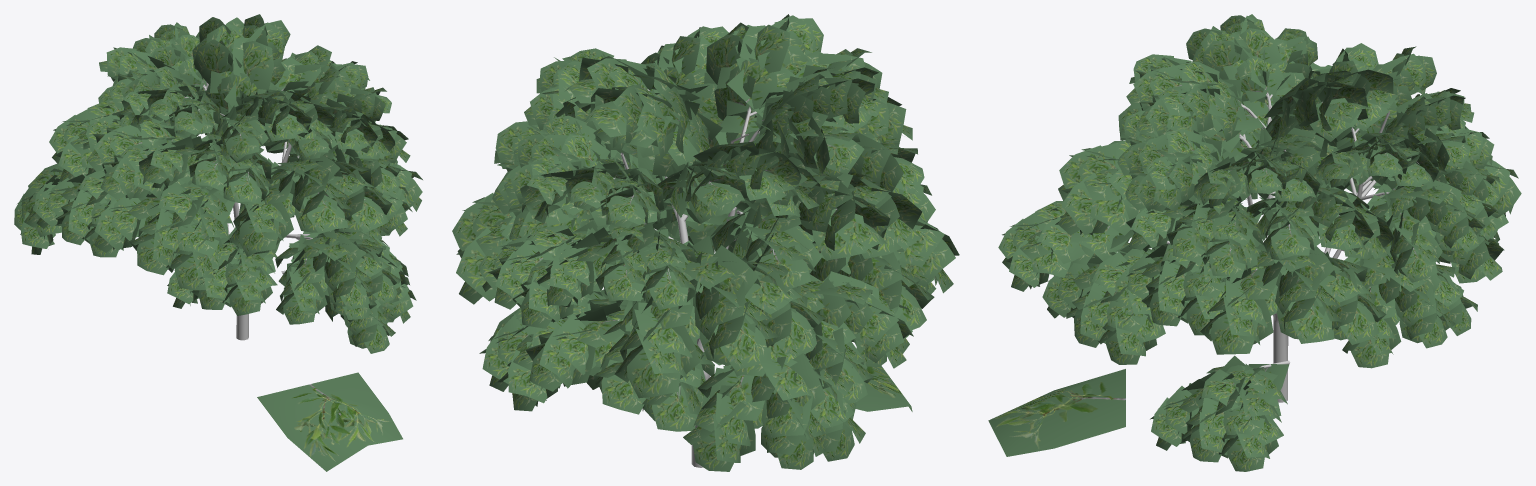
Rendered from MediumPolyTree.fbx.
3 views of the same model, side by side, from view 1: azimuth 30°, elevation 25°; view 2: azimuth 150°, elevation 25°; view 3: azimuth 270°, elevation 25° (orthographic). The views are drawn at different scales.
Parts seen in each view (by area): view 1: Branch_010, Branch_016, Branch_026, Plane, Branch_005, Branch_020, Branch_024, Branch_013, Branch_007, Branch_004, Branch_025, Branch_022 (+11 smaller); view 2: Branch_011, Branch_003, Branch_013, Branch_026, Branch_002, Branch_024, Branch_025, Branch_018, Branch_004, Branch_019, Branch_017, Branch_010 (+13 smaller); view 3: Branch_008, Branch, Branch_026, Branch_012, Branch_006, Branch_024, Branch_001, Branch_025, Branch_014, Plane, Branch_015, Branch_022 (+12 smaller).
Part boxes in pixels (box(x1,y1,x2,y2)): Branch_010: box(92, 182, 234, 290); Branch_016: box(230, 153, 392, 256); Branch_026: box(192, 14, 332, 146); Plane: box(257, 372, 402, 471); Branch_005: box(275, 229, 401, 324); Branch_020: box(139, 133, 272, 204); Branch_024: box(210, 89, 334, 162); Branch_013: box(83, 117, 196, 199); Branch_007: box(167, 227, 281, 315); Branch_004: box(34, 170, 124, 257); Branch_025: box(118, 82, 222, 136); Branch_022: box(281, 106, 395, 160); Branch_011: box(614, 235, 824, 398); Branch_003: box(683, 343, 865, 471); Branch_013: box(711, 168, 921, 291); Branch_026: box(542, 56, 734, 209); Branch_002: box(525, 299, 714, 431); Branch_024: box(706, 14, 882, 142); Branch_025: box(747, 67, 888, 180); Branch_018: box(537, 221, 699, 309); Branch_004: box(797, 271, 913, 403); Branch_019: box(657, 141, 820, 225); Branch_017: box(520, 159, 663, 228); Branch_010: box(733, 219, 959, 329); Branch_008: box(1200, 239, 1386, 354); Branch: box(1150, 355, 1289, 471); Branch_026: box(1252, 69, 1399, 182); Branch_012: box(1360, 180, 1499, 282); Branch_006: box(1042, 242, 1165, 364); Branch_024: box(1126, 54, 1266, 141); Branch_001: box(1341, 245, 1477, 368); Branch_025: box(1186, 14, 1317, 121); Branch_014: box(1247, 183, 1393, 260); Plane: box(988, 369, 1125, 456); Branch_015: box(1126, 195, 1263, 278); Branch_022: box(1117, 110, 1223, 211).
Bounding box in the file's own units: 6.43 × 6.26 × 7.74.
